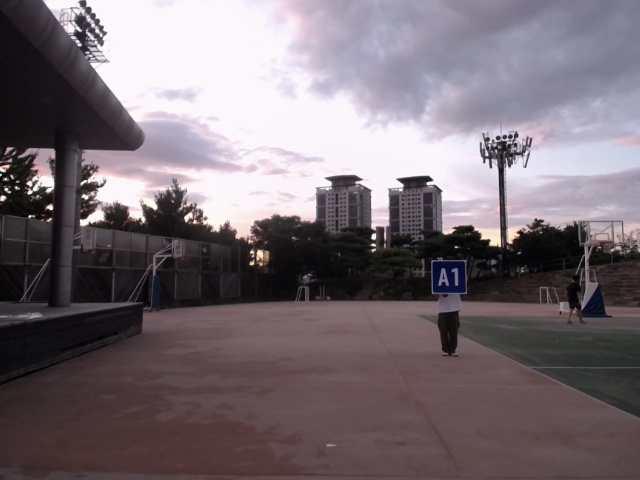delivery_a1: (432, 261, 466, 294)
